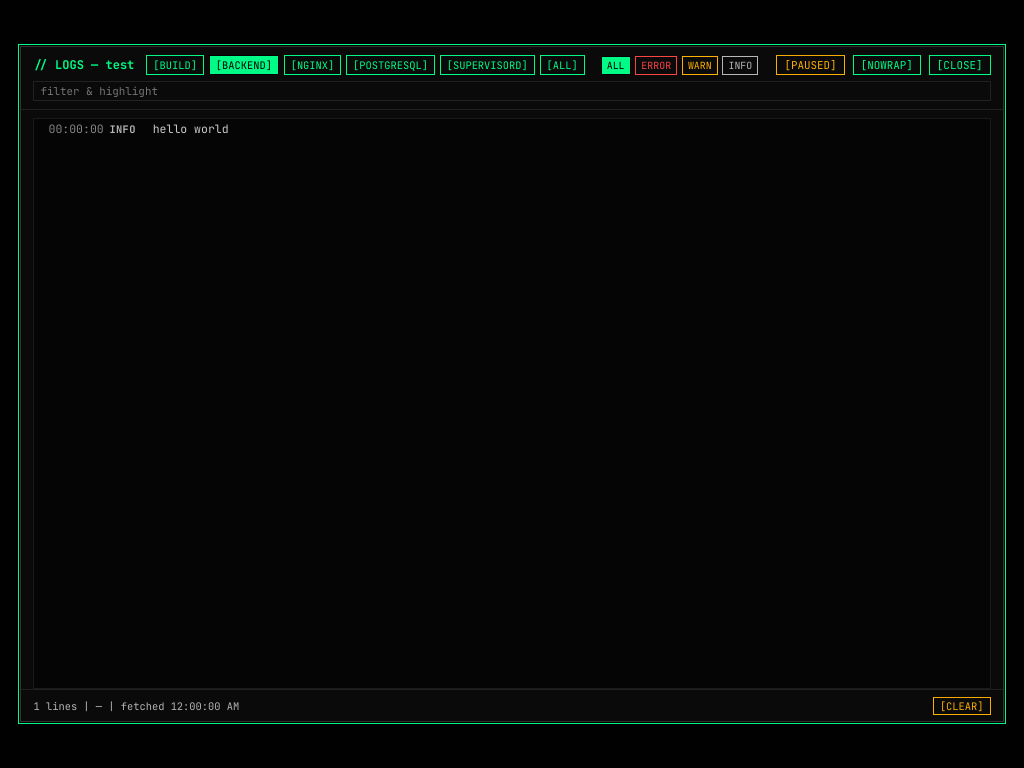
it: LogPanel — combined filter + highlight input › shows the empty-result placeholder when no rows match
Expected: the text "hello world" is shown, [153,122,229,136]
Type "xxxxxxxx" into the field with placeholder "filter & highlight" at (512,92), box [34,82,990,102]
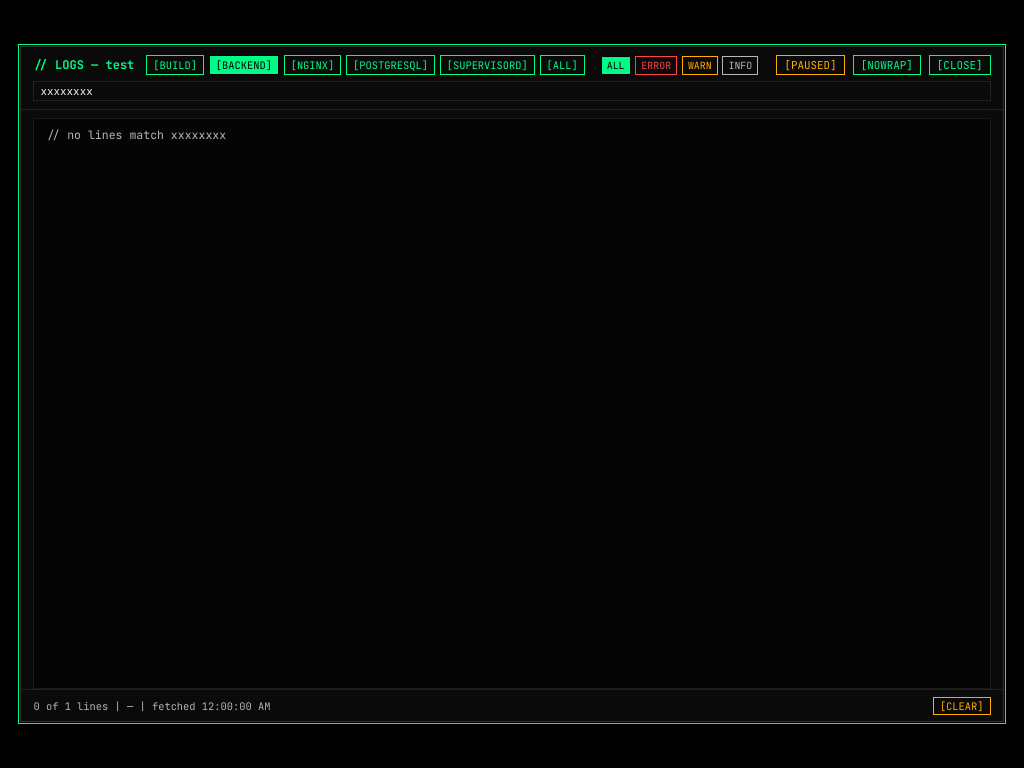
Expected: the text "// no lines match xxxxxxxx" is shown, [46,128,226,142]
